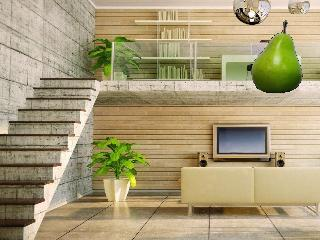pear: (252, 21, 303, 93)
